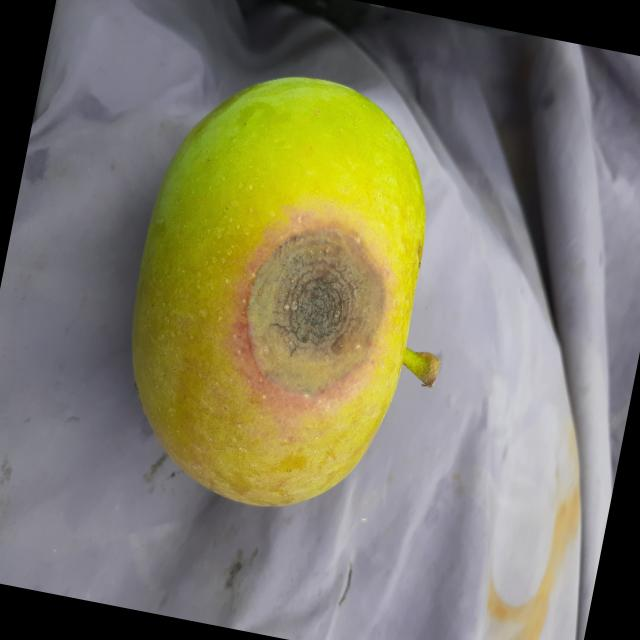rotten: (90, 42, 466, 540)
